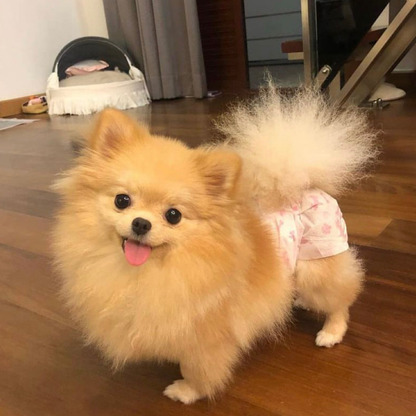Pomeranian: (44, 105, 389, 385)
